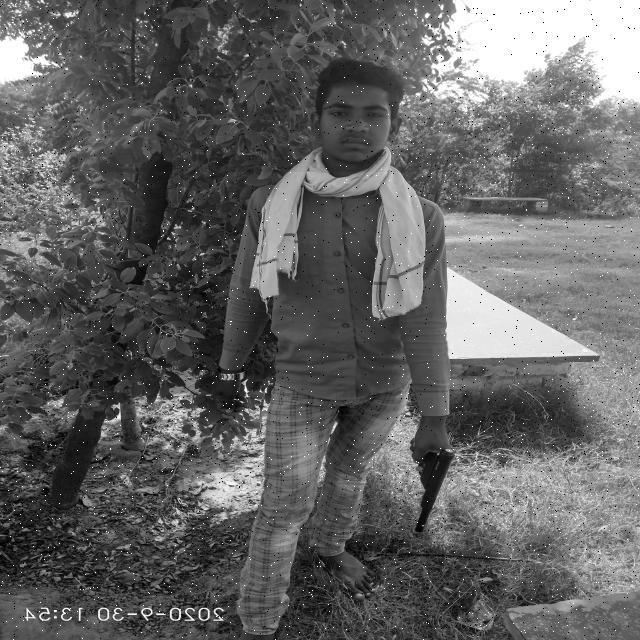gun: (406, 449, 461, 546)
